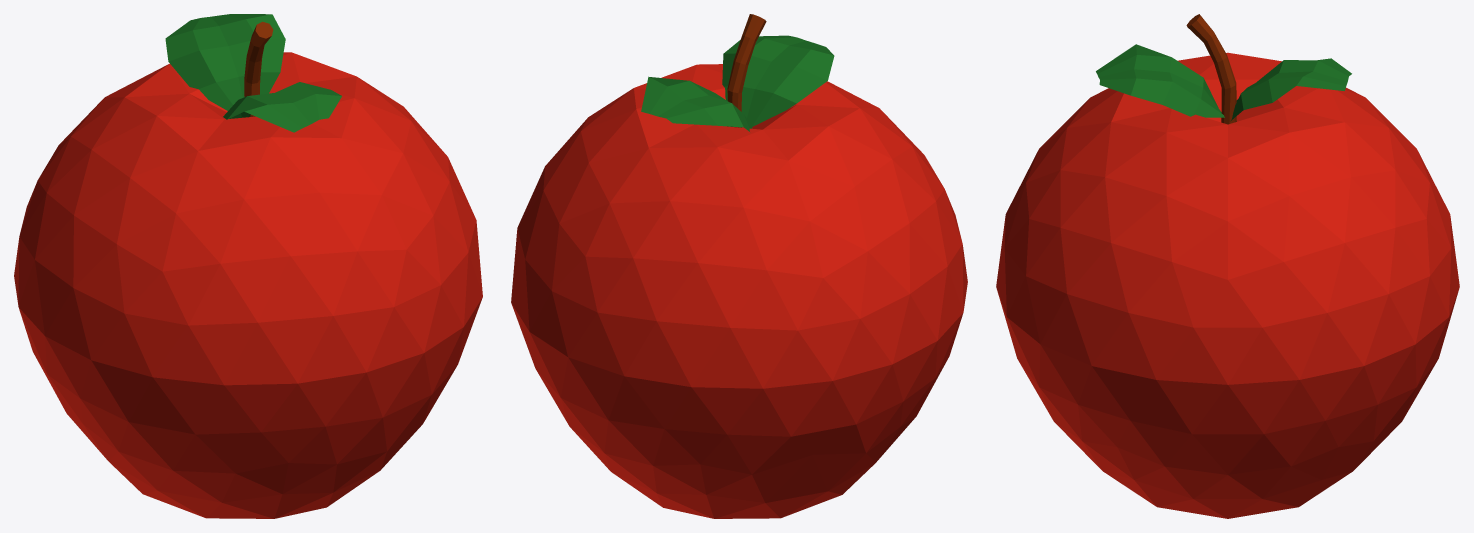
Rendered from Apple.fbx.
The picture shows the model from 3 angles, left to right: view 1: azimuth 30°, elevation 25°; view 2: azimuth 150°, elevation 25°; view 3: azimuth 270°, elevation 25°; orthographic projection. The views are drawn at different scales.
Parts seen in each view (by area): view 1: Icosphere; view 2: Icosphere; view 3: Icosphere.
Part boxes in pixels (x1,y1,x2,y2): Icosphere: [14, 14, 482, 518]; Icosphere: [511, 14, 967, 518]; Icosphere: [996, 14, 1459, 518].
Size of the model in its own units: 199 by 217 by 198.
